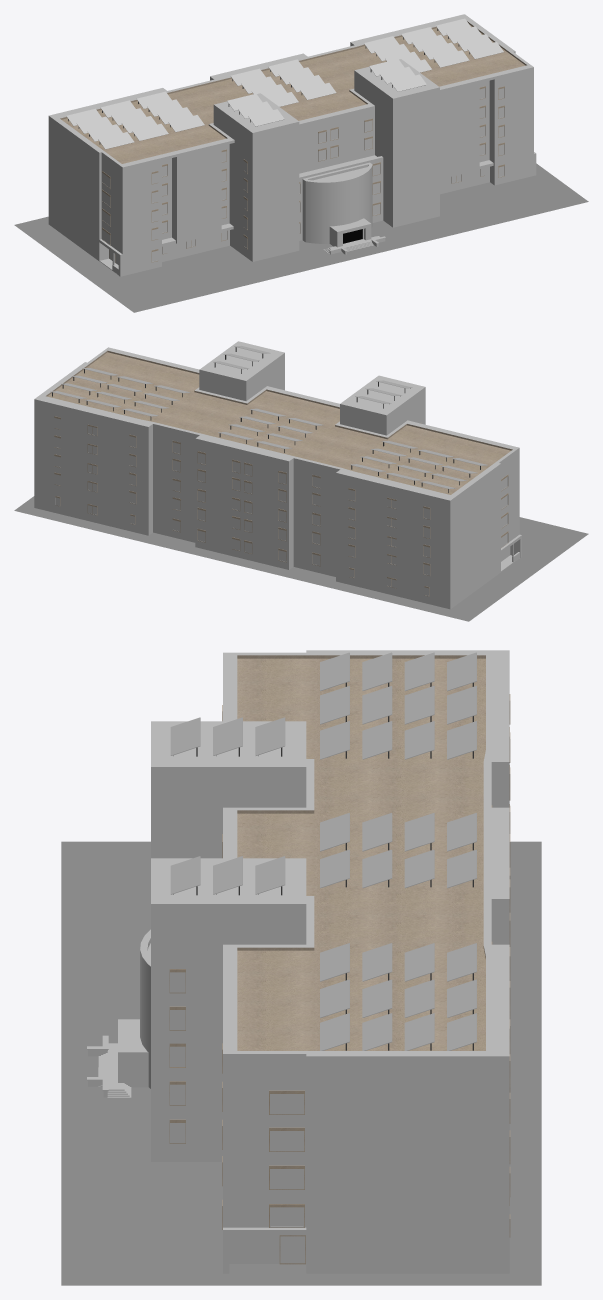
Rendered from hall_final_fbx.fbx.
The picture shows the model from 3 angles, top to bottom: view 1: azimuth 30°, elevation 25°; view 2: azimuth 150°, elevation 25°; view 3: azimuth 270°, elevation 25°; orthographic projection. The views are drawn at different scales.
Visible parts, largest first — view 1: Box012, Plane009, Group001, Shape034; view 2: Box012, Group001, Plane009, Shape034; view 3: Box012, Plane009, Group001, Shape034.
Part boxes in pixels (bbox=[...]): Box012: bbox=[48, 14, 536, 276]; Plane009: bbox=[14, 163, 588, 312]; Group001: bbox=[66, 18, 503, 274]; Shape034: bbox=[102, 86, 504, 263]; Box012: bbox=[34, 341, 521, 609]; Group001: bbox=[50, 345, 519, 596]; Plane009: bbox=[14, 496, 588, 621]; Shape034: bbox=[420, 423, 508, 547]; Box012: bbox=[87, 650, 509, 1273]; Plane009: bbox=[61, 841, 541, 1285]; Group001: bbox=[170, 652, 510, 1237]; Shape034: bbox=[169, 705, 305, 1264].
Size of the model in its own units: 13386 by 3819 by 6118.
